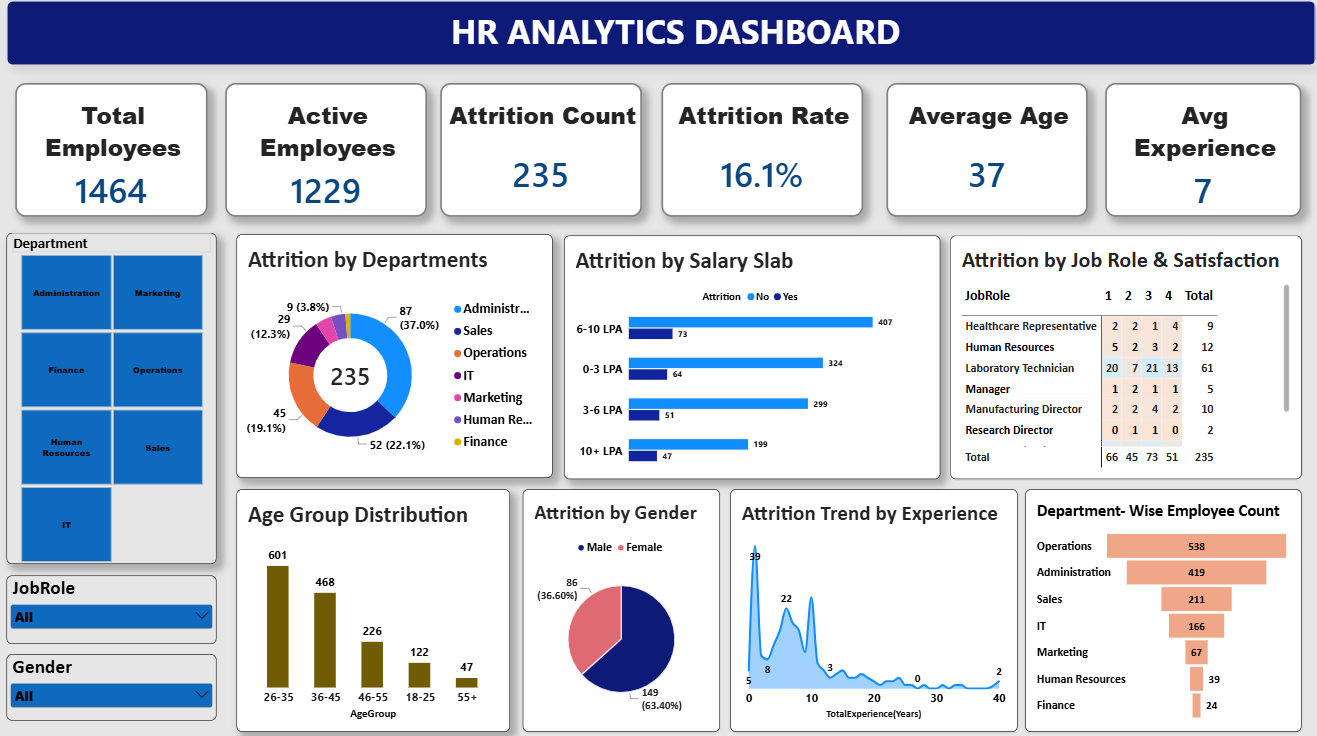

What the dashboard file says about the page in this screenshot:
{"tool":"powerbi","page":{"name":"Page 1","canvas":[1908,1080],"ordinal":0},"visuals":[{"type":"textbox","box":[10.3,10.3,1895.7,94.7],"z":0},{"type":"cardVisual","title":"Total Employees","fields":{"Data":["CountNonNull(HR_Analytics-4.EmpID)"]},"box":[23.5,130.3,278.7,193.6],"z":1000},{"type":"cardVisual","title":"Active Employees","fields":{"Data":["CountNonNull(HR_Analytics-4.EmployeeCount)"]},"box":[327.5,130.3,292.3,193.5],"z":2000},{"type":"cardVisual","title":"Attrition Count","fields":{"Data":["Sum(HR_Analytics-4.Attrition_Count)"]},"box":[638.8,130.3,292,193.5],"z":3000},{"type":"cardVisual","title":"Attrition Rate","fields":{"Data":["HR_Analytics-4.Attrition Rate %"]},"box":[959.1,130.3,292,193.5],"z":4000},{"type":"cardVisual","title":"Average Age","fields":{"Data":["Avg(HR_Analytics-4.Age)"]},"box":[1284.9,130.3,291,193.5],"z":5000},{"type":"cardVisual","title":"Avg Experience","fields":{"Data":["Avg(HR_Analytics-4.YearsatCompany)"]},"box":[1601.5,130.3,284,193.5],"z":6000},{"type":"donutChart","title":"Attrition by Departments","fields":{"Category":["HR_Analytics-4.Department"],"Y":["Sum(HR_Analytics-4.Attrition_Count)"]},"box":[343.8,349.3,457.8,352.9],"z":7000},{"type":"clusteredBarChart","title":"Attrition by Salary Slab","fields":{"Category":["HR_Analytics-4.SalarySlab"],"Series":["HR_Analytics-4.Attrition"],"Y":["CountNonNull(HR_Analytics-4.EmpID)"]},"box":[818,351.1,544.7,352.9],"z":8000},{"type":"pivotTable","title":"Attrition by Job Role &  Satisfaction","fields":{"Columns":["HR_Analytics-4.JobSatisfaction"],"Rows":["HR_Analytics-4.JobRole"],"Values":["Sum(HR_Analytics-4.Attrition_Count)"]},"box":[1377.2,351.1,508.5,352.9],"z":9000},{"type":"columnChart","title":"Age Group Distribution","fields":{"Category":["HR_Analytics-4.AgeGroup"],"Y":["Sum(HR_Analytics-4.EmployeeCount)"]},"box":[343.8,718.4,396.3,351.1],"z":10000},{"type":"pieChart","title":" Attrition by Gender","fields":{"Category":["HR_Analytics-4.Gender"],"Y":["Sum(HR_Analytics-4.Attrition_Count)"]},"box":[758.2,718.4,285.9,351.1],"z":11000},{"type":"areaChart","title":"Attrition Trend by Experience","fields":{"Category":["HR_Analytics-4.TotalExperience(Years)"],"Y":["Sum(HR_Analytics-4.Attrition_Count)"]},"box":[1058.7,718.4,416.2,351.1],"z":11001},{"type":"funnel","title":"Department- Wise Employee Count","fields":{"Category":["HR_Analytics-4.Department"],"Y":["CountNonNull(HR_Analytics-4.EmpID)"]},"box":[1485.7,718.4,399.9,351.1],"z":11002},{"type":"slicer","fields":{"Values":["HR_Analytics-4.Department"]},"box":[10.9,347.5,304,479.6],"z":11003},{"type":"slicer","fields":{"Values":["HR_Analytics-4.Gender"]},"box":[10.9,957.3,304,95.9],"z":11004},{"type":"slicer","fields":{"Values":["HR_Analytics-4.JobRole"]},"box":[10.9,843.3,304,99.5],"z":11005}]}

Visuals, with their boxes in screenshot pixels (x1, y1, x2, y2), scaled from the page's 1908x1080 canvas onto the 1317x736 screenshot:
textbox: {"x1": 7, "y1": 7, "x2": 1316, "y2": 72}
"Total Employees" cardVisual: {"x1": 16, "y1": 89, "x2": 209, "y2": 221}
"Active Employees" cardVisual: {"x1": 226, "y1": 89, "x2": 428, "y2": 221}
"Attrition Count" cardVisual: {"x1": 441, "y1": 89, "x2": 642, "y2": 221}
"Attrition Rate" cardVisual: {"x1": 662, "y1": 89, "x2": 864, "y2": 221}
"Average Age" cardVisual: {"x1": 887, "y1": 89, "x2": 1088, "y2": 221}
"Avg Experience" cardVisual: {"x1": 1105, "y1": 89, "x2": 1301, "y2": 221}
"Attrition by Departments" donutChart: {"x1": 237, "y1": 238, "x2": 553, "y2": 479}
"Attrition by Salary Slab" clusteredBarChart: {"x1": 565, "y1": 239, "x2": 941, "y2": 480}
"Attrition by Job Role &  Satisfaction" pivotTable: {"x1": 951, "y1": 239, "x2": 1302, "y2": 480}
"Age Group Distribution" columnChart: {"x1": 237, "y1": 490, "x2": 511, "y2": 729}
" Attrition by Gender" pieChart: {"x1": 523, "y1": 490, "x2": 721, "y2": 729}
"Attrition Trend by Experience" areaChart: {"x1": 731, "y1": 490, "x2": 1018, "y2": 729}
"Department- Wise Employee Count" funnel: {"x1": 1026, "y1": 490, "x2": 1302, "y2": 729}
slicer - HR_Analytics-4.Department: {"x1": 8, "y1": 237, "x2": 217, "y2": 564}
slicer - HR_Analytics-4.Gender: {"x1": 8, "y1": 652, "x2": 217, "y2": 718}
slicer - HR_Analytics-4.JobRole: {"x1": 8, "y1": 575, "x2": 217, "y2": 643}
